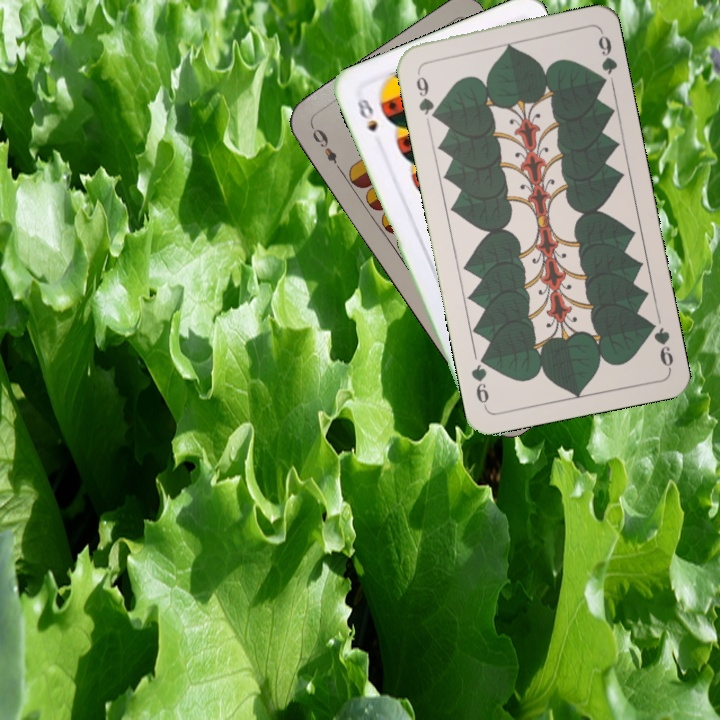E9: (307, 121, 345, 175)
G9: (643, 316, 676, 372), (412, 65, 441, 123)
S8: (353, 94, 380, 135)
